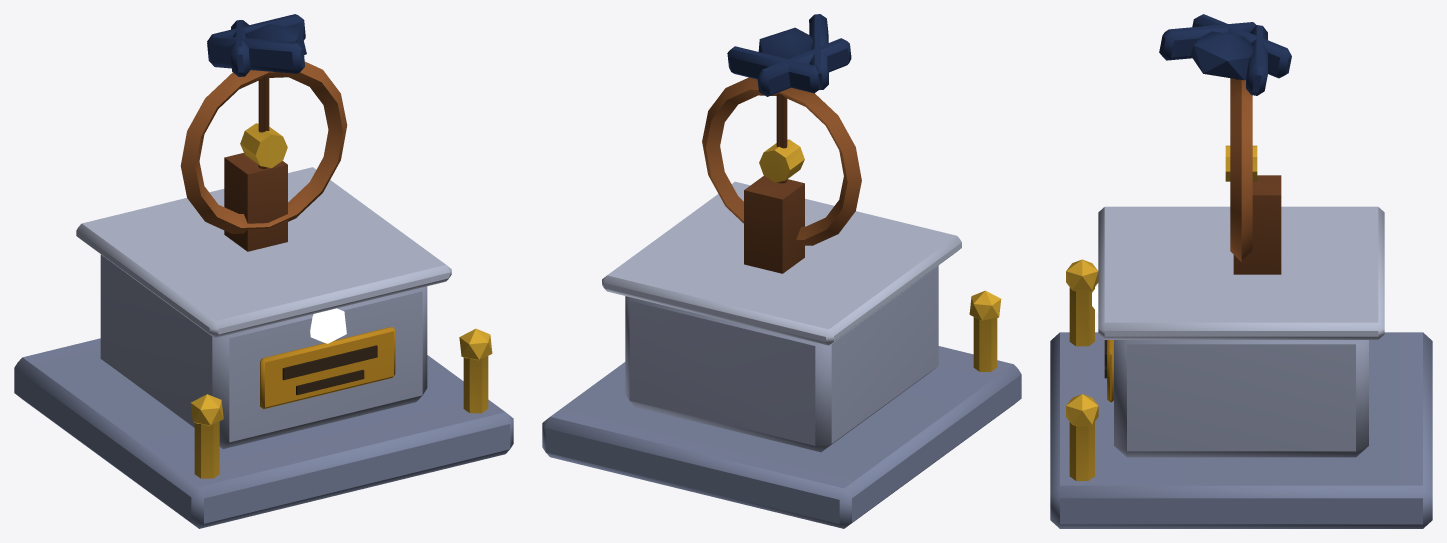
Rendered from b_trophy_glibber.glb.
3 views of the same model, side by side, from view 1: azimuth 30°, elevation 25°; view 2: azimuth 150°, elevation 25°; view 3: azimuth 270°, elevation 25° (orthographic). The views are drawn at different scales.
Parts seen in each view (by area): view 1: body, pulse_gem_glow; view 2: body; view 3: body.
Boxes of the visible parts, left/top/right/bottom form: body: left=14, top=14, right=513, bottom=528; pulse_gem_glow: left=310, top=308, right=346, bottom=343; body: left=542, top=14, right=1021, bottom=528; body: left=1050, top=14, right=1432, bottom=528.
Bounding box in the file's own units: 2.4 × 2.91 × 2.4.
